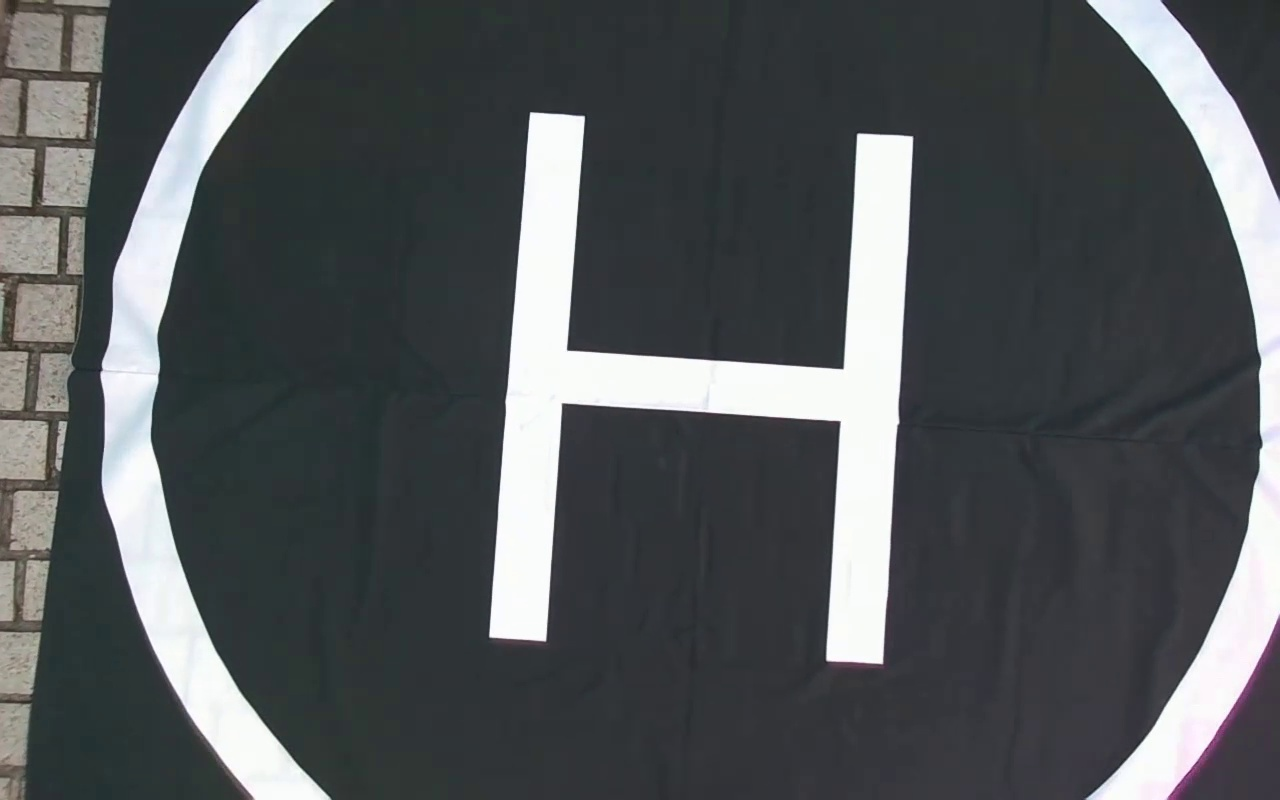H: (488, 112, 915, 665)
